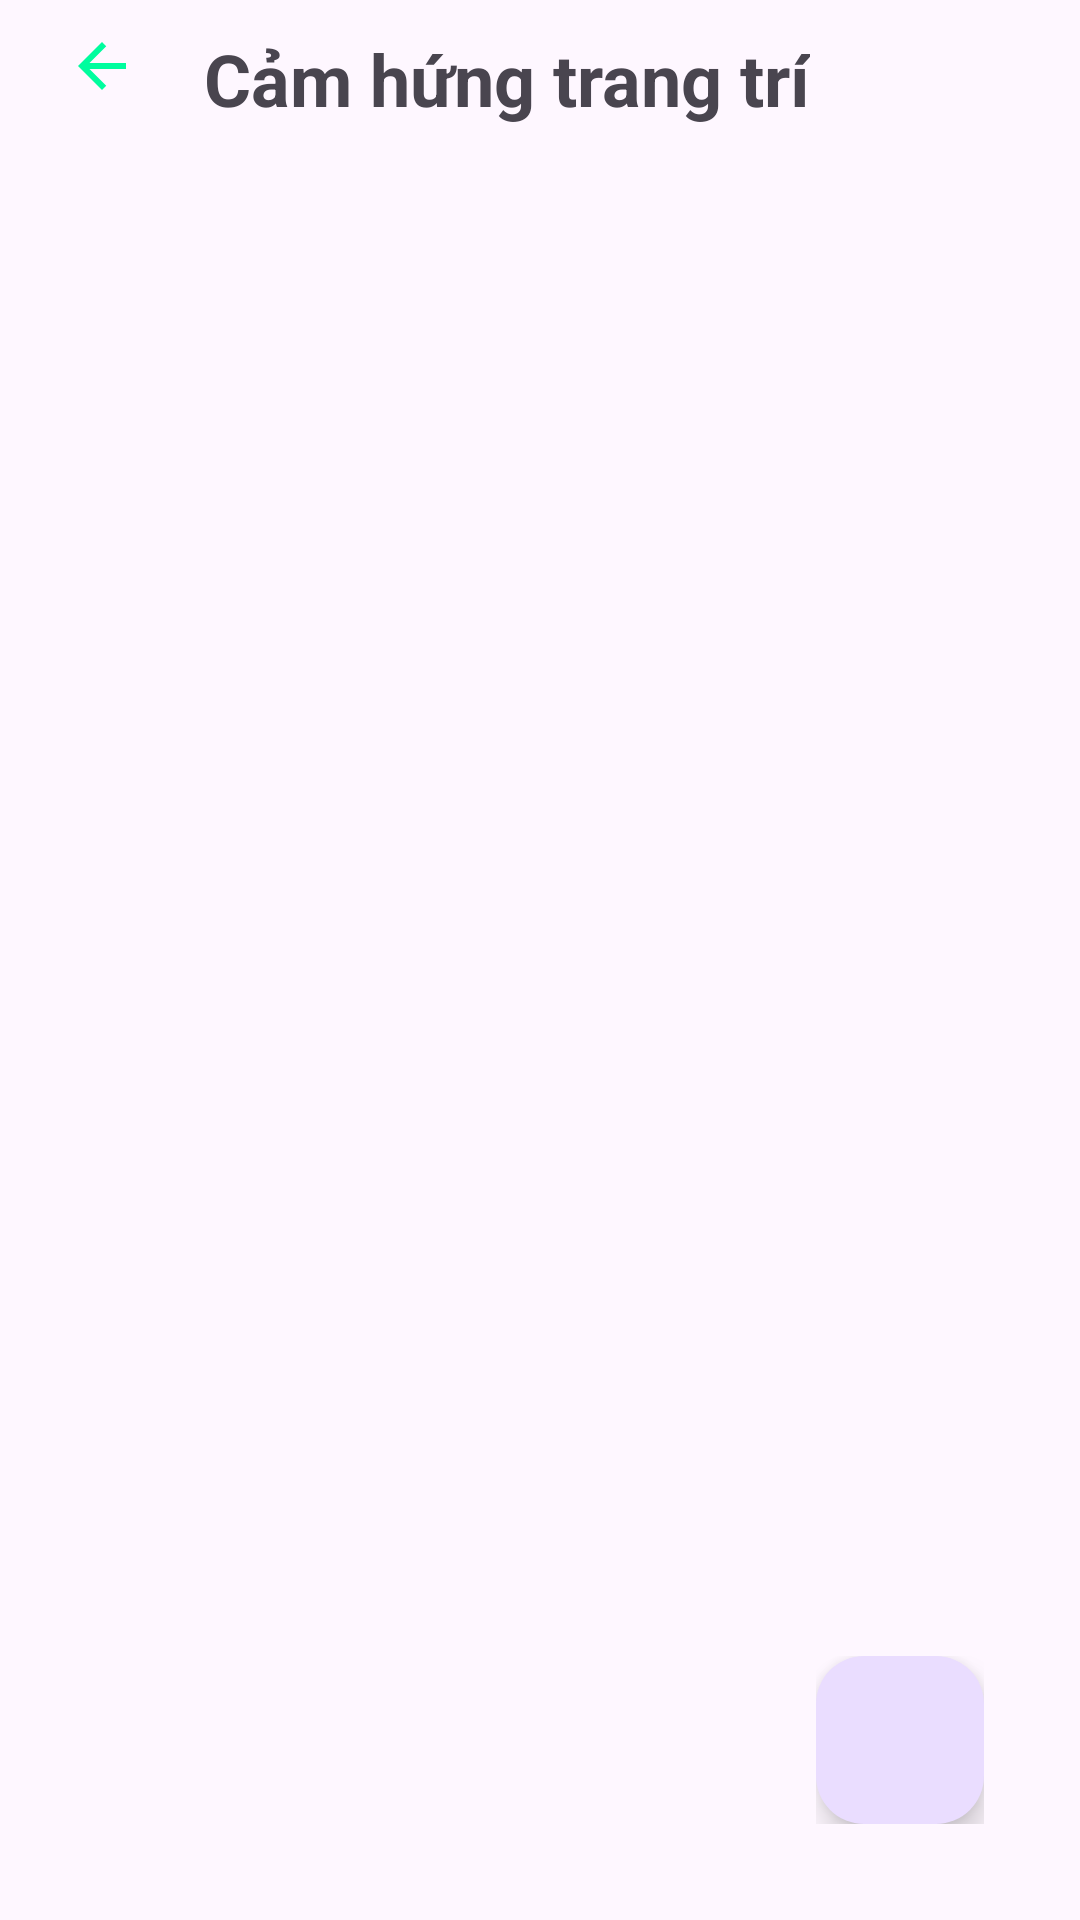

Icons on this 1080w x 1920h Android screen, each with the point to tap as (x=x, y=y):
arrow back: (x=102, y=66)
